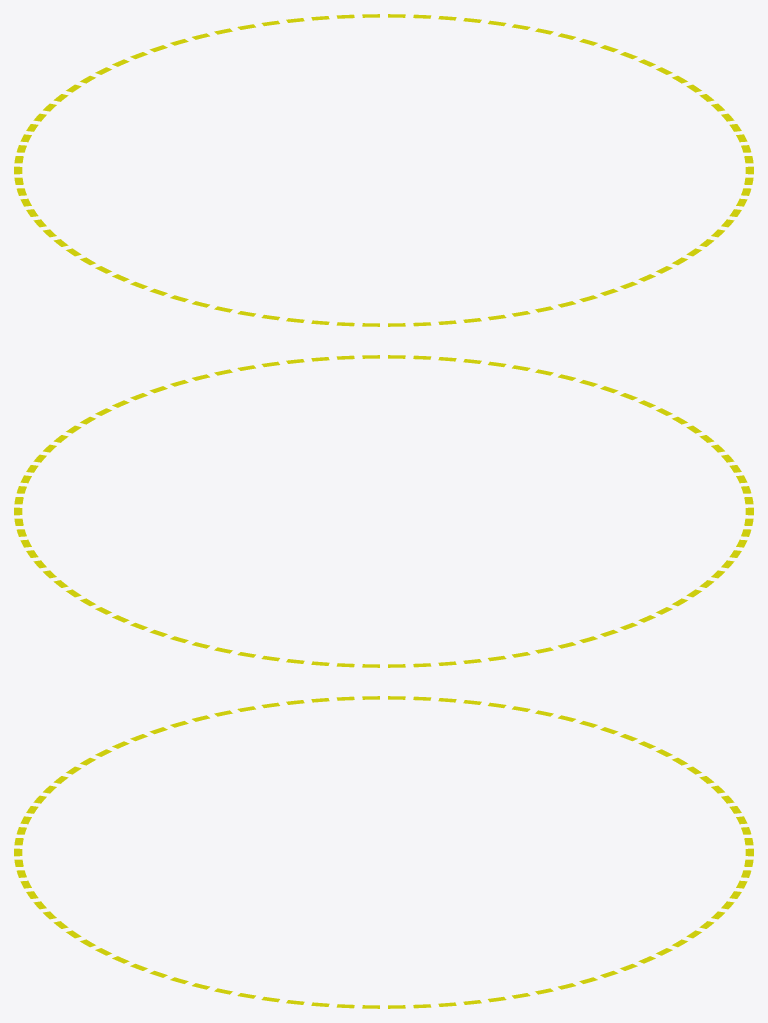
The model's file is xinggui_8.fbx.
3 views of the same model, one above another, from view 1: azimuth 30°, elevation 25°; view 2: azimuth 150°, elevation 25°; view 3: azimuth 270°, elevation 25° (orthographic).
Parts seen in each view (by area): view 1: x8; view 2: x8; view 3: x8.
Part boxes in pixels (x1,y1,x2,y2): x8: [14, 14, 753, 326]; x8: [14, 355, 753, 667]; x8: [14, 696, 753, 1008].
Size of the model in its own units: 2023 by 0 by 2023.
